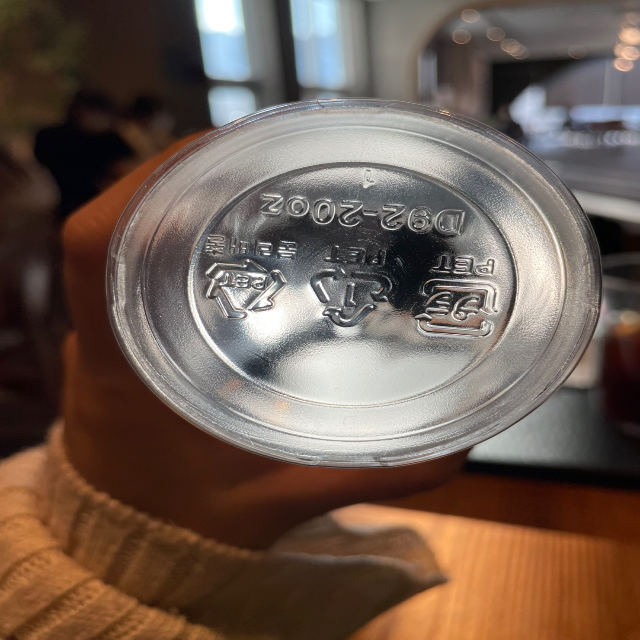pet: (194, 225, 299, 321), (409, 247, 507, 344), (304, 236, 394, 330)
